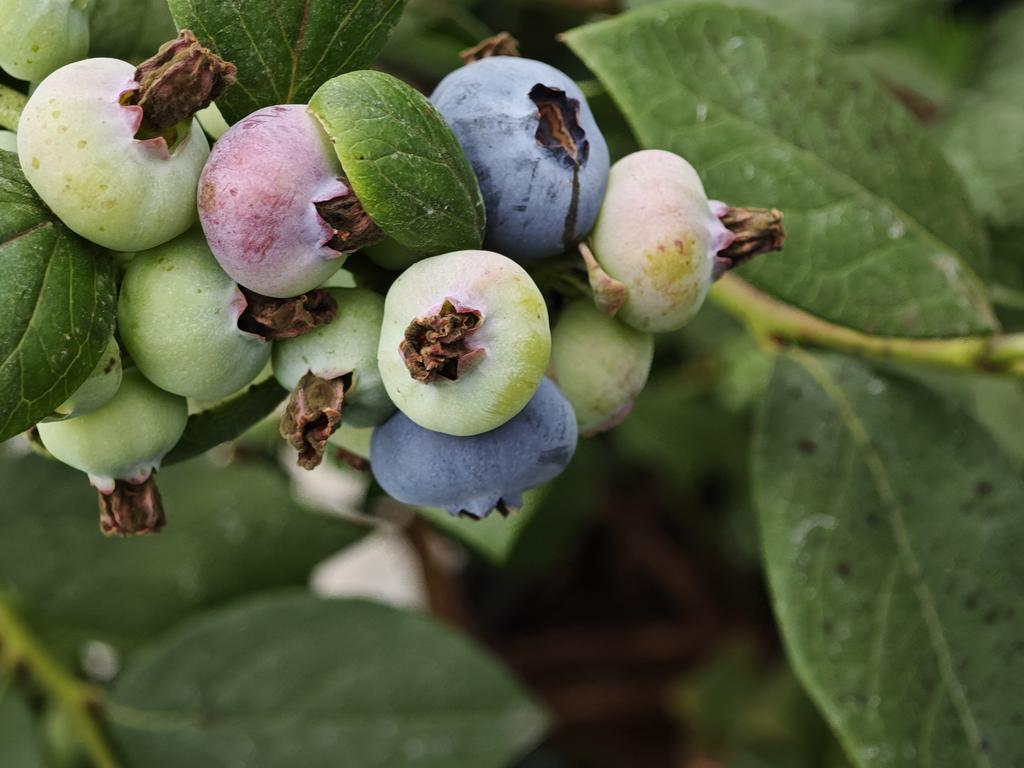RipeBlueBerry: (425, 52, 614, 255)
Semi-RipeBlueBerry: (195, 99, 378, 300)
UnripeBlueBerry: (15, 49, 209, 255), (373, 245, 554, 438)
